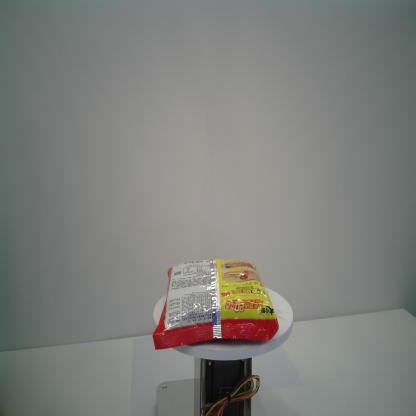Instant Noodles: (152, 257, 279, 353)
